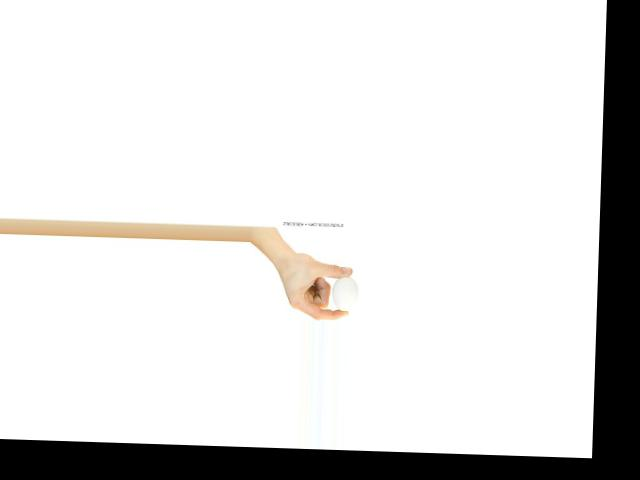egg: (331, 275, 357, 311)
